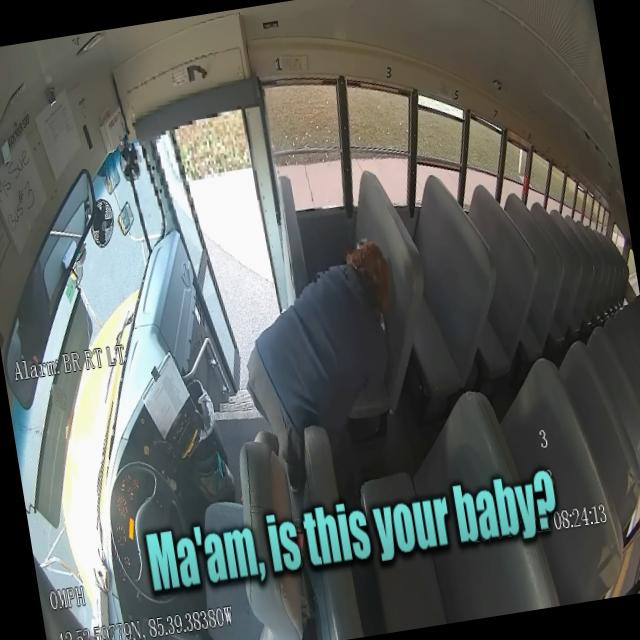bus-door: (156, 132, 240, 386)
